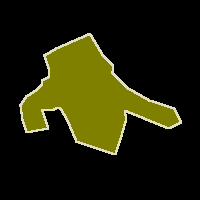tie: (20, 34, 181, 154)
